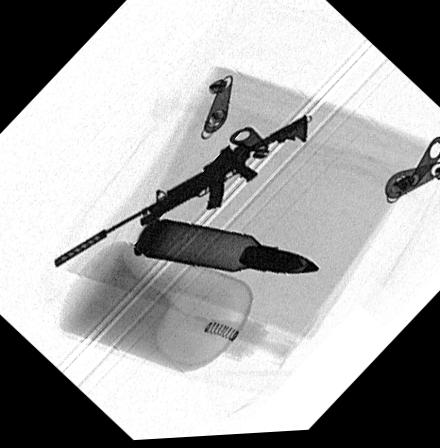Bullet: (132, 218, 322, 278)
Gun: (54, 115, 308, 267)
